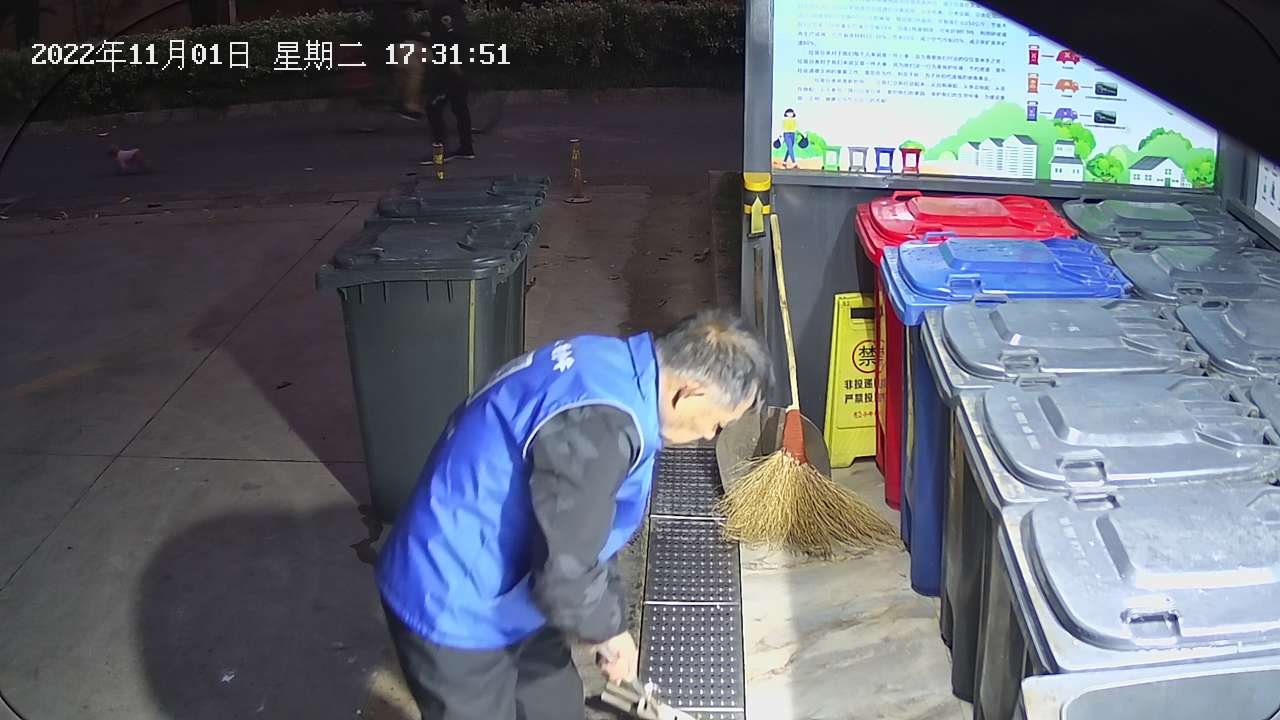worker: (371, 304, 780, 720)
